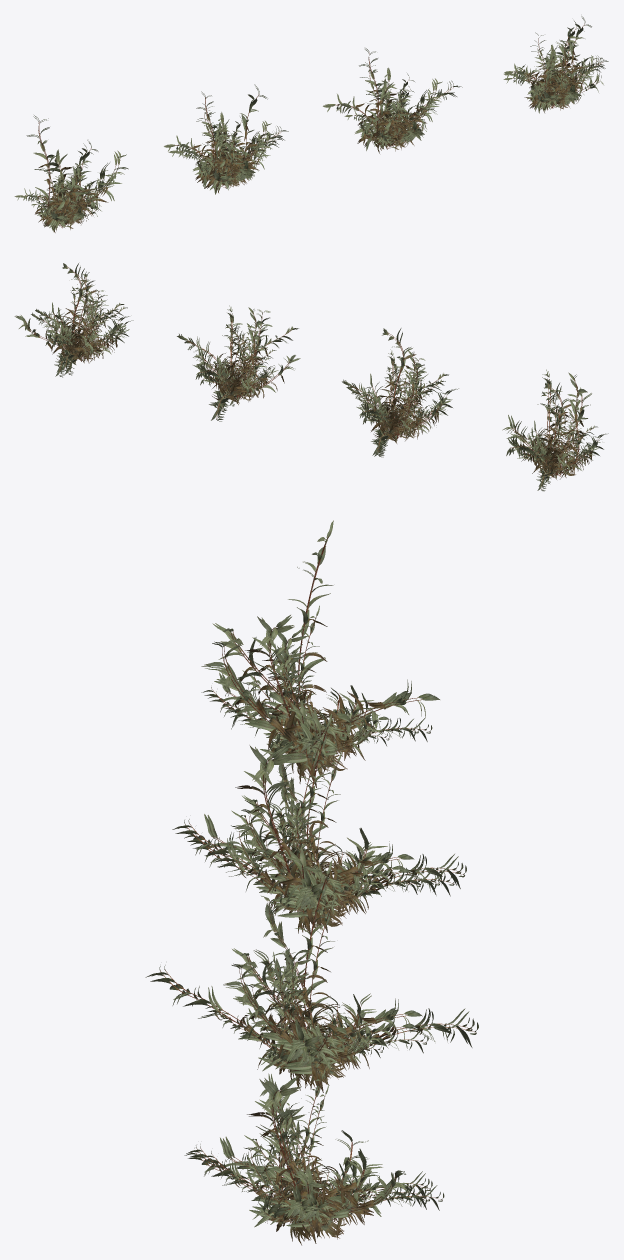
Rendered from shrub_02.gltf.
The picture shows the model from 3 angles, top to bottom: view 1: azimuth 30°, elevation 25°; view 2: azimuth 150°, elevation 25°; view 3: azimuth 270°, elevation 25°; orthographic projection. The views are drawn at different scales.
Parts seen in each view (by area): view 1: shrub_02_b, shrub_02_c, shrub_02_a, shrub_02_d; view 2: shrub_02_b, shrub_02_a, shrub_02_c, shrub_02_d; view 3: shrub_02_b, shrub_02_c, shrub_02_a, shrub_02_d.
Boxes of the visible parts, x1,y1,x2,y2 form: shrub_02_b: [164, 84, 288, 194]; shrub_02_c: [323, 48, 462, 153]; shrub_02_a: [14, 115, 128, 232]; shrub_02_d: [503, 16, 608, 113]; shrub_02_b: [342, 328, 458, 457]; shrub_02_a: [502, 369, 608, 491]; shrub_02_c: [177, 305, 300, 421]; shrub_02_d: [14, 263, 133, 377]; shrub_02_b: [172, 713, 466, 934]; shrub_02_c: [145, 860, 478, 1092]; shrub_02_a: [201, 520, 439, 787]; shrub_02_d: [184, 1068, 444, 1245].
Bounding box in the file's own units: 8.85 × 1.71 × 2.29.
Materials: 1 (1 with a texture image).
